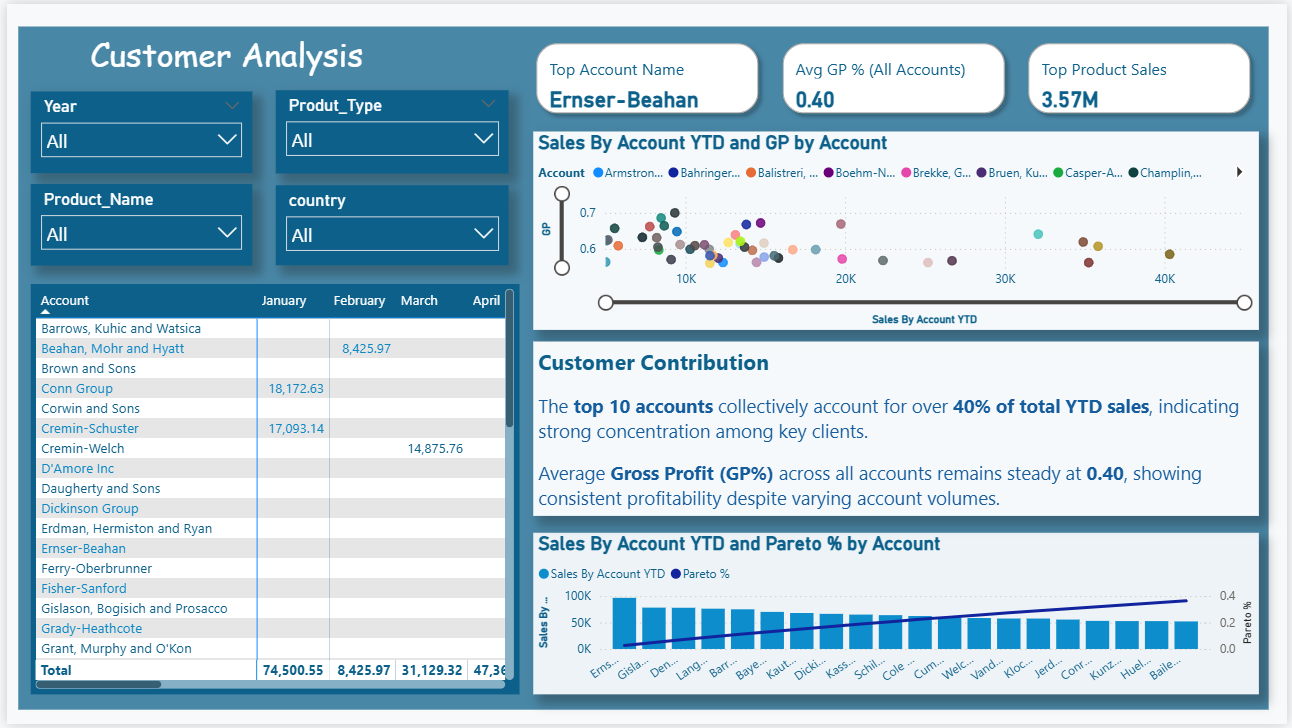

The page's visual inventory and layout, read from the dashboard file:
{"tool":"powerbi","page":{"name":"Customer Analysis","canvas":[1280,720],"ordinal":2},"visuals":[{"type":"textbox","box":[11.4,22.9,1250,682.9],"z":0},{"type":"cardVisual","fields":{"Data":["_Measures.Top Account Name","_Measures.Avg GP % (All Accounts)","_Measures.Top Product Sales"]},"box":[512.9,22.9,748.6,104.3],"z":1000},{"type":"slicer","fields":{"Values":["Dim_Date.Date.Variation.Date Hierarchy.Year"]},"box":[24.3,87.1,221.4,81.4],"z":2000},{"type":"slicer","fields":{"Values":["Dim_Product.Produt_Type"]},"box":[268.6,85.7,232.9,82.9],"z":3000},{"type":"slicer","fields":{"Values":["Dim_Product.Product_Name"]},"box":[24.3,180,221.4,81.4],"z":4000},{"type":"slicer","fields":{"Values":["Dim_Accounts.country"]},"box":[268.6,181.4,232.9,80],"z":5000},{"type":"lineClusteredColumnComboChart","fields":{"Category":["Dim_Accounts.Account"],"Y":["_Measures.Sales By Account YTD"],"Y2":["_Measures.Pareto %"]},"box":[525.7,528.6,725.7,161.4],"z":6000},{"type":"pivotTable","fields":{"Values":["_Measures.YTD_Sales"],"Rows":["Dim_Accounts.Account"],"Columns":["Dim_Date.Date.Variation.Date Hierarchy.Month"]},"box":[24.3,280,488.6,410],"z":7000},{"type":"scatterChart","fields":{"Y":["_Measures.GP"],"X":["_Measures.Sales By Account YTD"],"Series":["Dim_Accounts.Account"]},"box":[525.7,127.1,725.7,198.6],"z":8000},{"type":"textbox","box":[525.7,337.1,725.7,174.3],"z":9000}]}

Visuals, with their boxes in screenshot pixels (x1, y1, x2, y2), scaled from the page's 1280x720 canvas onto the 1292x728 screenshot:
textbox: box=[12, 23, 1273, 714]
cardVisual - _Measures.Top Account Name x _Measures.Avg GP % (All Accounts): box=[518, 23, 1273, 129]
slicer - Dim_Date.Date.Variation.Date Hierarchy.Year: box=[25, 88, 248, 170]
slicer - Dim_Product.Produt_Type: box=[271, 87, 506, 170]
slicer - Dim_Product.Product_Name: box=[25, 182, 248, 264]
slicer - Dim_Accounts.country: box=[271, 183, 506, 264]
lineClusteredColumnComboChart - Dim_Accounts.Account x _Measures.Sales By Account YTD: box=[531, 534, 1263, 698]
pivotTable - _Measures.YTD_Sales x Dim_Accounts.Account: box=[25, 283, 518, 698]
scatterChart - _Measures.GP x _Measures.Sales By Account YTD: box=[531, 129, 1263, 329]
textbox: box=[531, 341, 1263, 517]
